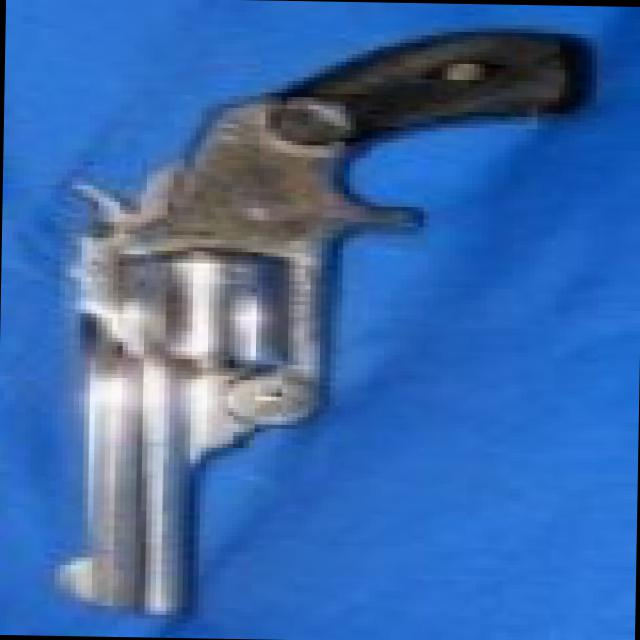handgun: (38, 31, 598, 629)
